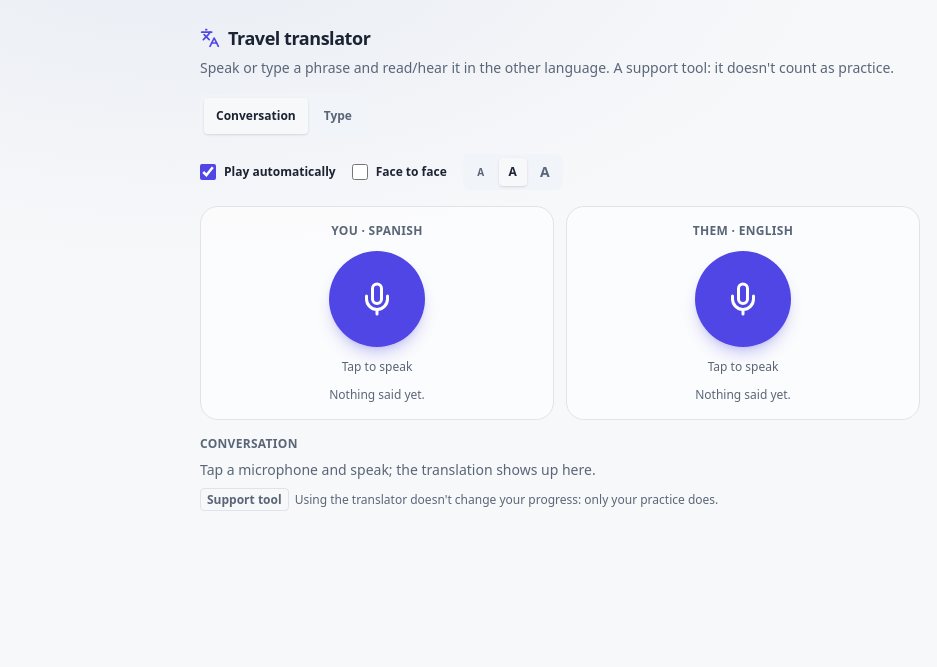
TranslatorScreen · V3.39 traductor de viaje › guarda el historial reciente en localStorage
Click the button "Type" at x=338, y=116, box [312,98,364,134]
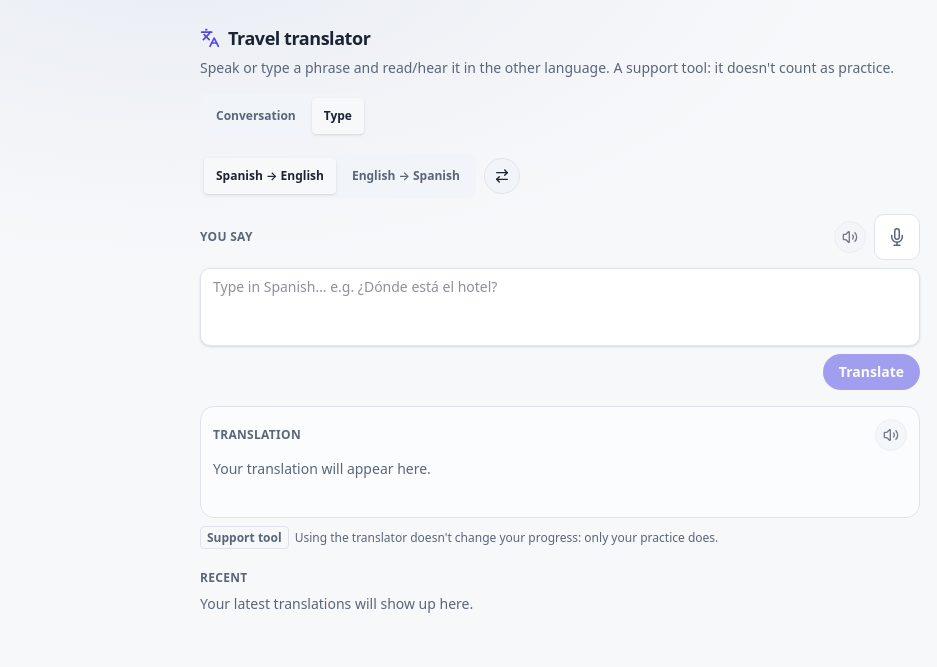
Type "Hola" into the text box named "Phrase to translate" at x=560, y=307, box [200,268,920,346]
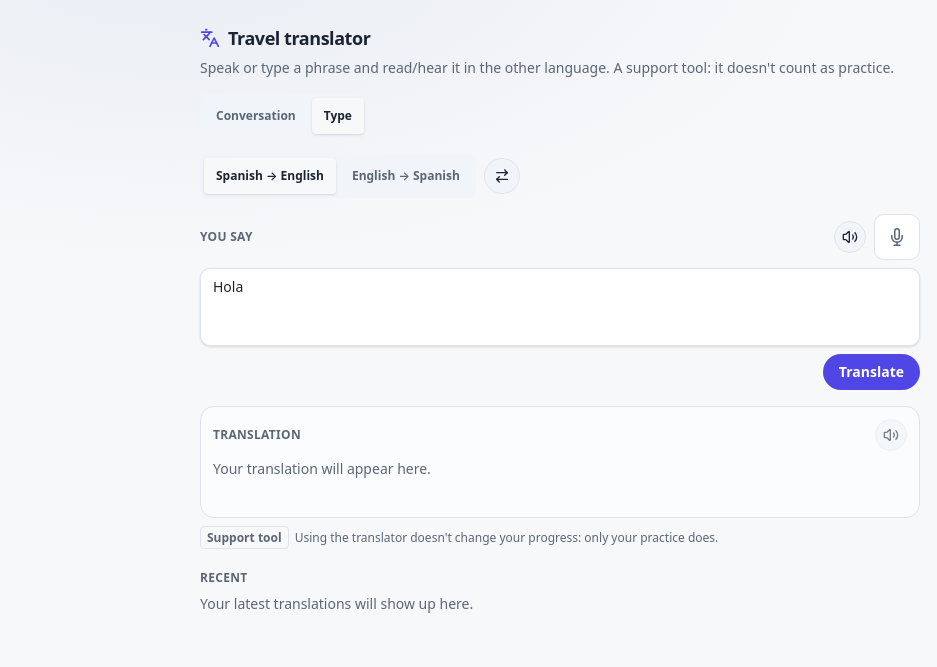
Click the button "Translate" at x=871, y=372, box [823,354,920,390]
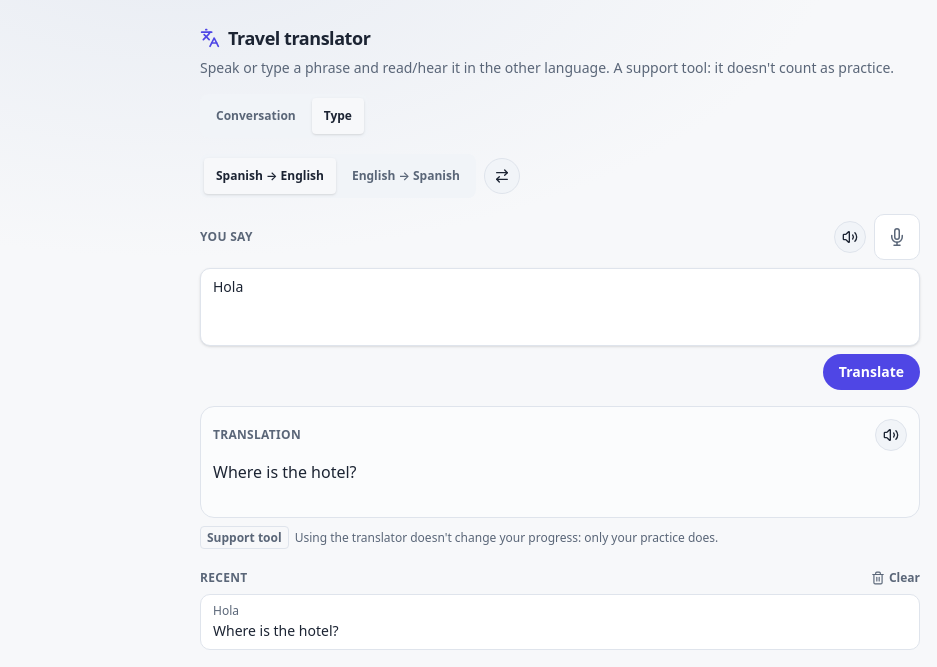
Expected: the text "Where is the hotel?" below "Translation" is shown, [213,461,356,483]
Expected: the text "Where is the hotel?" below "Recent" is shown, [213,621,339,640]
